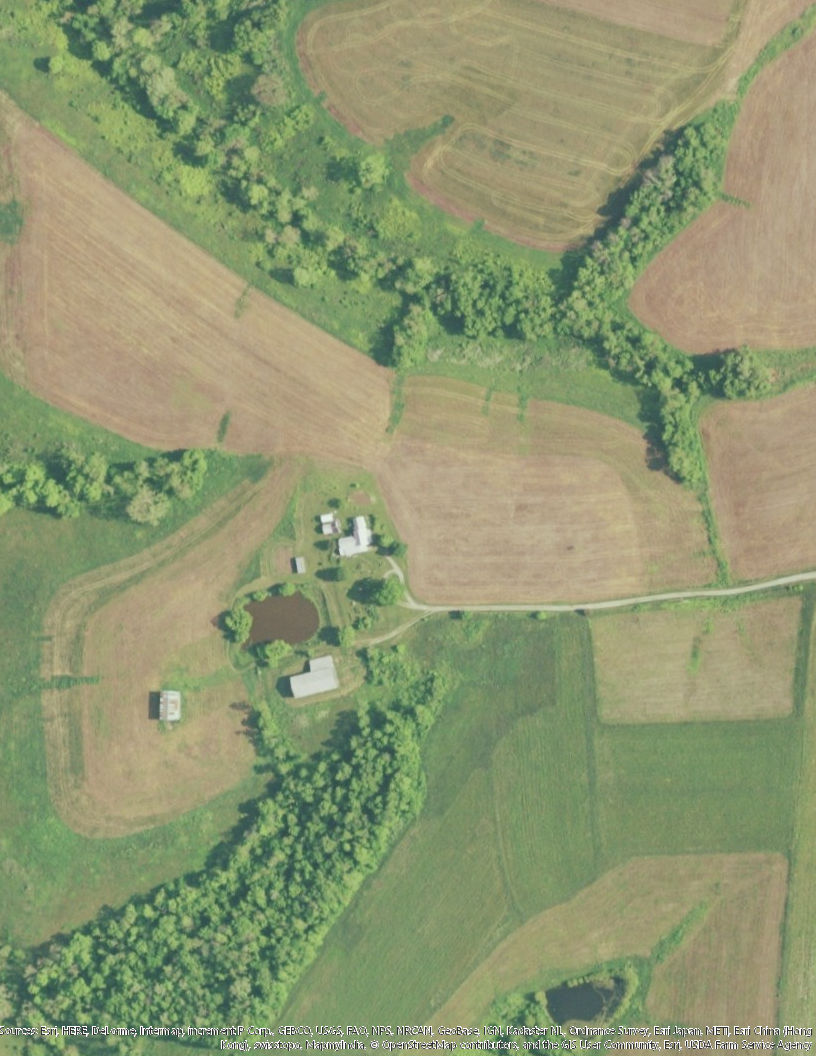cafo: (282, 652, 344, 700)
